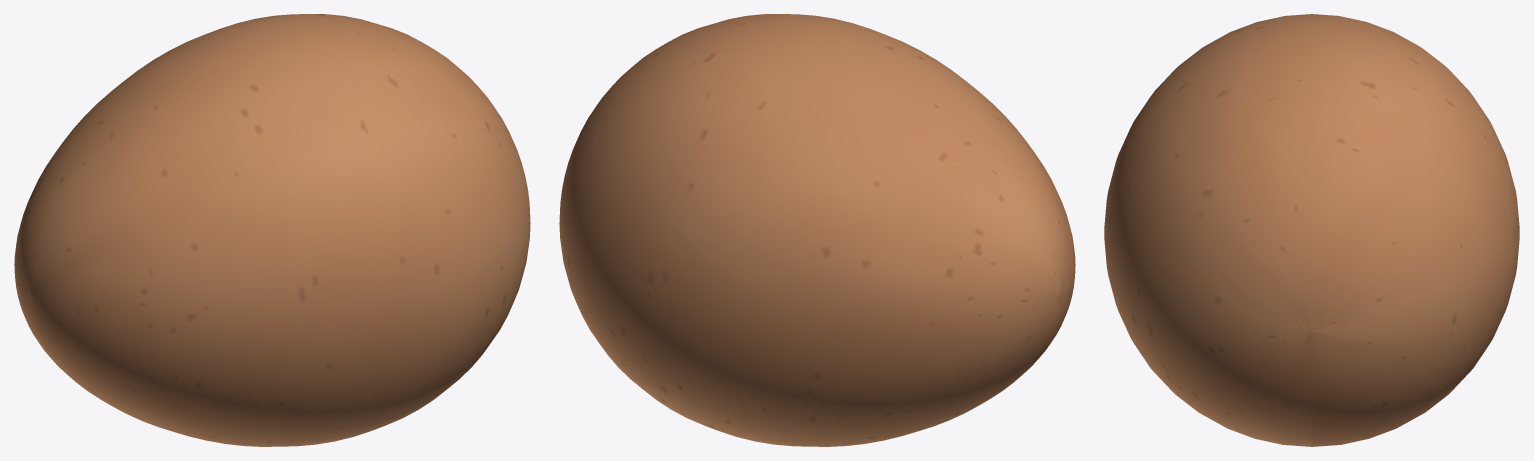
3 views of the same model, side by side, from view 1: azimuth 30°, elevation 25°; view 2: azimuth 150°, elevation 25°; view 3: azimuth 270°, elevation 25° (orthographic). The views are drawn at different scales.
Parts seen in each view (by area): view 1: Egg, brown; view 2: Egg, brown; view 3: Egg, brown.
Part boxes in pixels (x1=…): Egg, brown: x1=14, y1=14, x2=530, y2=446; Egg, brown: x1=559, y1=14, x2=1075, y2=446; Egg, brown: x1=1104, y1=14, x2=1519, y2=446.
Size of the model in its own units: 0.058 by 0.0457 by 0.0457.
Materials: 1 (1 with a texture image).
